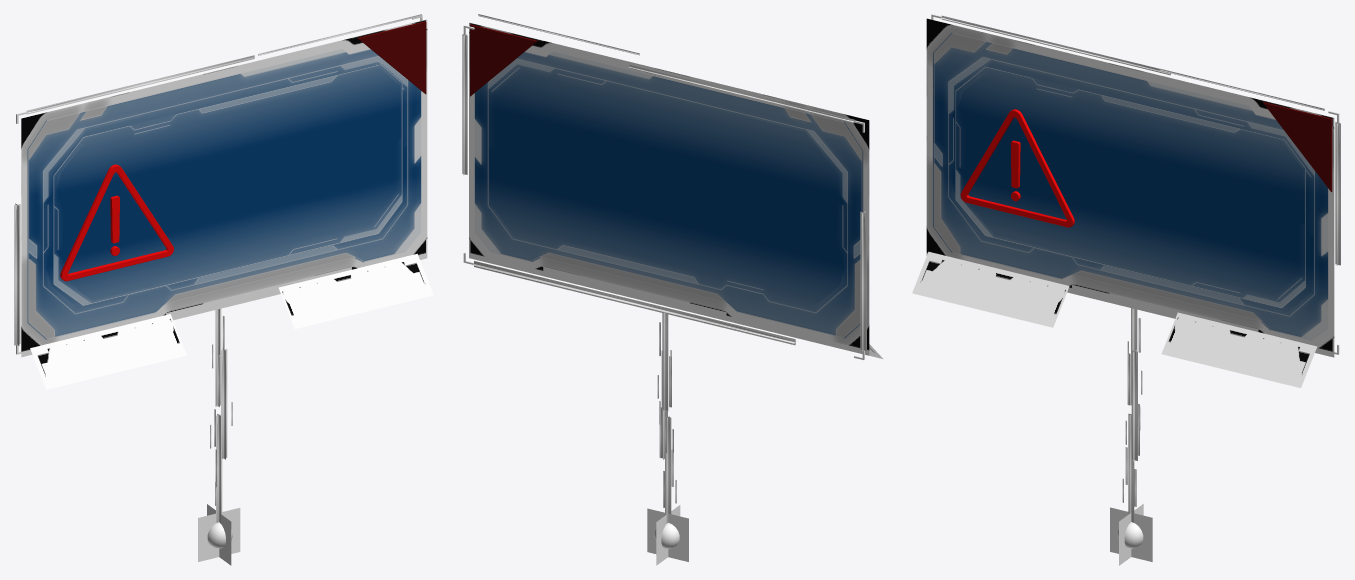
The picture shows the model from 3 angles, left to right: view 1: azimuth 30°, elevation 25°; view 2: azimuth 150°, elevation 25°; view 3: azimuth 330°, elevation 25°; orthographic projection.
Visible parts, largest first — view 1: UI_01_016, UI_01_018, UI_01_017, bankuai_01_002, bankuai_01_001, UI_01_014, UI_01_031, UI_01_013; view 2: UI_01_018, UI_01_014, bankuai_01_001, UI_01_031, UI_01_013; view 3: UI_01_016, UI_01_018, UI_01_017, bankuai_01_002, bankuai_01_001, UI_01_031, UI_01_014, UI_01_013.
Boxes of the visible parts, x1,y1,x2,y2 form: UI_01_016: [53, 64, 402, 306]; UI_01_018: [21, 19, 427, 357]; UI_01_017: [30, 253, 433, 389]; bankuai_01_002: [60, 164, 173, 281]; bankuai_01_001: [357, 21, 426, 94]; UI_01_014: [14, 14, 422, 345]; UI_01_031: [210, 308, 232, 523]; UI_01_013: [198, 504, 240, 565]; UI_01_018: [469, 22, 869, 355]; UI_01_014: [462, 14, 866, 351]; bankuai_01_001: [470, 24, 537, 96]; UI_01_031: [657, 311, 676, 523]; UI_01_013: [647, 505, 688, 565]; UI_01_016: [955, 66, 1305, 308]; UI_01_018: [926, 18, 1334, 357]; UI_01_017: [912, 251, 1317, 387]; bankuai_01_002: [960, 109, 1074, 227]; bankuai_01_001: [1263, 102, 1332, 191]; UI_01_031: [1122, 308, 1142, 522]; UI_01_014: [941, 15, 1340, 265]; UI_01_013: [1110, 504, 1152, 565].
Bounding box in the file's own units: 271 × 315 × 40.09.
